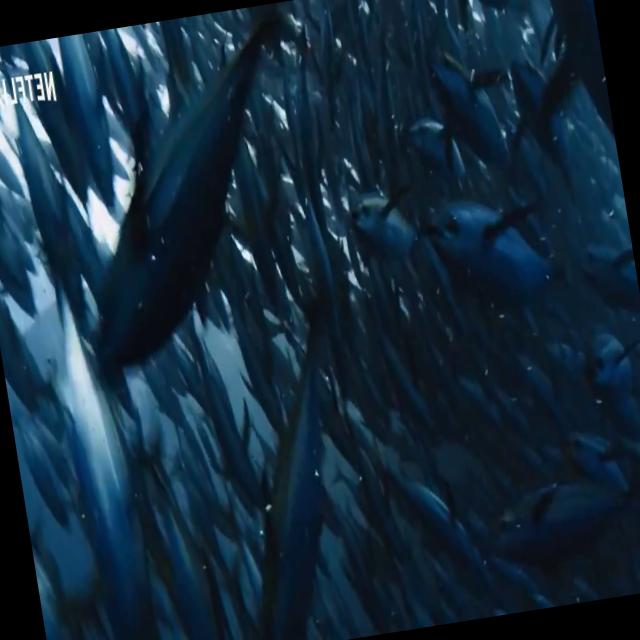fish: (43, 38, 334, 382), (201, 291, 385, 640), (37, 267, 171, 640), (417, 176, 565, 328), (476, 450, 640, 586), (420, 30, 536, 191), (376, 442, 489, 586), (54, 32, 124, 212), (388, 98, 474, 185), (342, 173, 418, 264), (568, 312, 638, 408)
